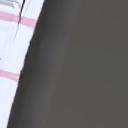crackTip: (13, 1, 25, 41)
